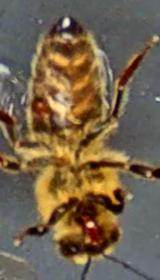varroa_mite: (21, 86, 64, 126)
